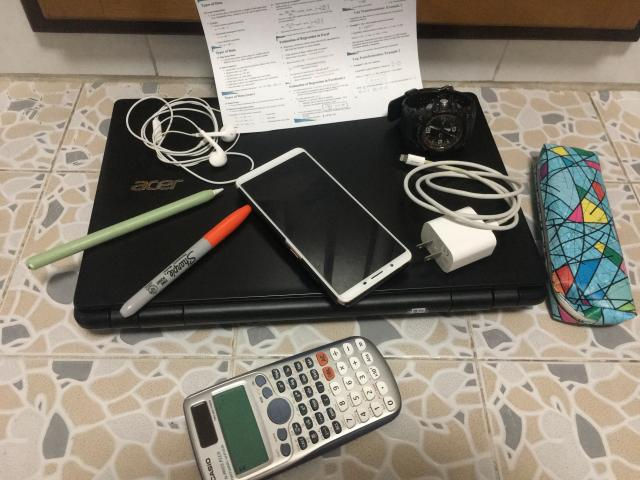Mobile phone: (235, 148, 411, 306)
Pen: (120, 205, 251, 318)
Watch: (388, 85, 476, 152)
paper: (196, 0, 428, 135)
wire: (400, 154, 524, 272), (125, 96, 252, 185)
